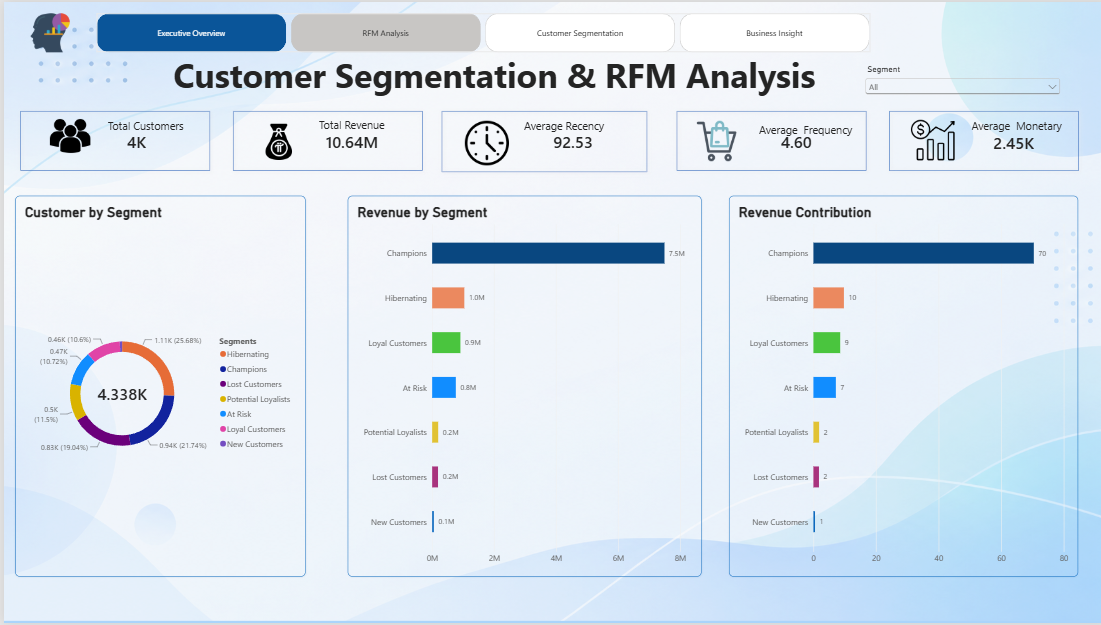

What the dashboard file says about the page in this screenshot:
{"tool":"powerbi","page":{"name":"Executive Overview","canvas":[1920,1080],"ordinal":0},"visuals":[{"type":"cardVisual","title":"T","fields":{"Data":["customer_rfm_final.Total Customers"]},"box":[197.5,210,118,62],"z":0},{"type":"cardVisual","fields":{"Data":["customer_rfm_final.Total Revenue"]},"box":[542.5,212.5,140,60],"z":1000},{"type":"cardVisual","fields":{"Data":["customer_rfm_final.Average Recency"]},"box":[940,212.5,108,60],"z":2000},{"type":"cardVisual","fields":{"Data":["customer_rfm_final.Average Frequency"]},"box":[1335,212.5,118,58],"z":3000},{"type":"cardVisual","fields":{"Data":["customer_rfm_final.Average Monetary"]},"box":[1705,215,116,56],"z":4000},{"type":"donutChart","title":"Customer by Segment","fields":{"Category":["customer_rfm_final.Segment"],"Y":["CountNonNull(customer_rfm_final.CustomerID)"]},"box":[20,337.5,505,662.5],"z":5000},{"type":"barChart","title":"Revenue by Segment","fields":{"Category":["customer_rfm_final.Segment"],"Y":["customer_rfm_final.Total Revenue"]},"box":[597.5,337.5,615,662.5],"z":6000},{"type":"barChart","title":"Revenue Contribution ","fields":{"Category":["customer_rfm_final.Segment"],"Y":["customer_rfm_final.Revenue Contribution %"]},"box":[1260,337.5,607.5,662.5],"z":7000},{"type":"group","id":"g1","title":"Group 1","box":[390,180,347.5,122.5],"z":8000},{"type":"shape","box":[1530,180,347.5,122.5],"z":9000},{"type":"image","box":[0,20,160,68],"z":10000,"group":"g8"},{"type":"shape","box":[20,180,348,122],"z":10000,"group":"g3"},{"type":"shape","box":[390,180,348,122],"z":10000,"group":"g5"},{"type":"shape","box":[752.5,180,375.5,124.5],"z":10000,"group":"g9"},{"type":"shape","box":[1160,180,348,122],"z":10000,"group":"g10"},{"type":"textbox","box":[1682.4,203,174,28],"z":10000},{"type":"pageNavigator","box":[160,20,1346,68],"z":11000,"group":"g8"},{"type":"group","id":"g2","title":"Group 1","box":[20,180,347.5,122.5],"z":11000},{"type":"textbox","box":[548,200.3,134,25.9],"z":11000,"group":"g5"},{"type":"textbox","box":[180,202.2,134,25.9],"z":11000,"group":"g3"},{"type":"textbox","box":[905.7,202.6,187.8,32.1],"z":11000,"group":"g9"},{"type":"textbox","box":[1312,207.7,174,25.9],"z":11000,"group":"g10"},{"type":"group","id":"g3","title":"Group 2","box":[20,180,348,122],"z":11001,"group":"g2"},{"type":"group","id":"g4","title":"Group 2","box":[390,180,348,122],"z":11001,"group":"g1"},{"type":"group","id":"g5","title":"Group 3","box":[390,180,348,122],"z":11002,"group":"g4"},{"type":"image","box":[48,196.6,134,70.3],"z":12000,"group":"g3"},{"type":"image","box":[1556,201.8,118,76],"z":12000},{"type":"image","box":[410,204,138,77.7],"z":12000,"group":"g5"},{"type":"image","box":[1182,205.9,114,70.3],"z":12000,"group":"g10"},{"type":"image","box":[778.4,206.4,123,77.4],"z":12000,"group":"g9"},{"type":"group","id":"g6","title":"Group 3","box":[1160,180,347.5,122.5],"z":13000},{"type":"group","id":"g7","title":"Group 3","box":[752.5,180,375,125],"z":14000},{"type":"textbox","box":[158,88,1404,88],"z":15000},{"type":"group","id":"g8","title":"Group 4","box":[0,20,1506,68],"z":16000},{"type":"slicer","fields":{"Values":["customer_rfm_final.Segment"]},"box":[1494,108,348,68],"z":17000},{"type":"group","id":"g9","title":"Group 6","box":[752.5,180,375,125],"z":17001,"group":"g7"},{"type":"group","id":"g10","title":"Group 5","box":[1160,180,347.5,122.5],"z":17001,"group":"g6"}]}

Visuals, with their boxes in screenshot pixels (x1, y1, x2, y2), scaled from the page's 1920x1080 canvas onto the 1101x625 screenshot:
"T" cardVisual: [x1=113, y1=122, x2=181, y2=157]
cardVisual - customer_rfm_final.Total Revenue: [x1=311, y1=123, x2=391, y2=158]
cardVisual - customer_rfm_final.Average Recency: [x1=539, y1=123, x2=601, y2=158]
cardVisual - customer_rfm_final.Average Frequency: [x1=766, y1=123, x2=833, y2=157]
cardVisual - customer_rfm_final.Average Monetary: [x1=978, y1=124, x2=1044, y2=157]
"Customer by Segment" donutChart: [x1=11, y1=195, x2=301, y2=579]
"Revenue by Segment" barChart: [x1=343, y1=195, x2=695, y2=579]
"Revenue Contribution " barChart: [x1=723, y1=195, x2=1071, y2=579]
"Group 1" group: [x1=224, y1=104, x2=423, y2=175]
shape: [x1=877, y1=104, x2=1077, y2=175]
image: [x1=0, y1=12, x2=92, y2=51]
shape: [x1=11, y1=104, x2=211, y2=175]
shape: [x1=224, y1=104, x2=423, y2=175]
shape: [x1=432, y1=104, x2=647, y2=176]
shape: [x1=665, y1=104, x2=865, y2=175]
textbox: [x1=965, y1=117, x2=1065, y2=134]
pageNavigator: [x1=92, y1=12, x2=864, y2=51]
"Group 1" group: [x1=11, y1=104, x2=211, y2=175]
textbox: [x1=314, y1=116, x2=391, y2=131]
textbox: [x1=103, y1=117, x2=180, y2=132]
textbox: [x1=519, y1=117, x2=627, y2=136]
textbox: [x1=752, y1=120, x2=852, y2=135]
"Group 2" group: [x1=11, y1=104, x2=211, y2=175]
"Group 2" group: [x1=224, y1=104, x2=423, y2=175]
"Group 3" group: [x1=224, y1=104, x2=423, y2=175]
image: [x1=28, y1=114, x2=104, y2=154]
image: [x1=892, y1=117, x2=960, y2=161]
image: [x1=235, y1=118, x2=314, y2=163]
image: [x1=678, y1=119, x2=743, y2=160]
image: [x1=446, y1=119, x2=517, y2=164]
"Group 3" group: [x1=665, y1=104, x2=864, y2=175]
"Group 3" group: [x1=432, y1=104, x2=647, y2=177]
textbox: [x1=91, y1=51, x2=896, y2=102]
"Group 4" group: [x1=0, y1=12, x2=864, y2=51]
slicer - customer_rfm_final.Segment: [x1=857, y1=62, x2=1056, y2=102]
"Group 6" group: [x1=432, y1=104, x2=647, y2=177]
"Group 5" group: [x1=665, y1=104, x2=864, y2=175]
